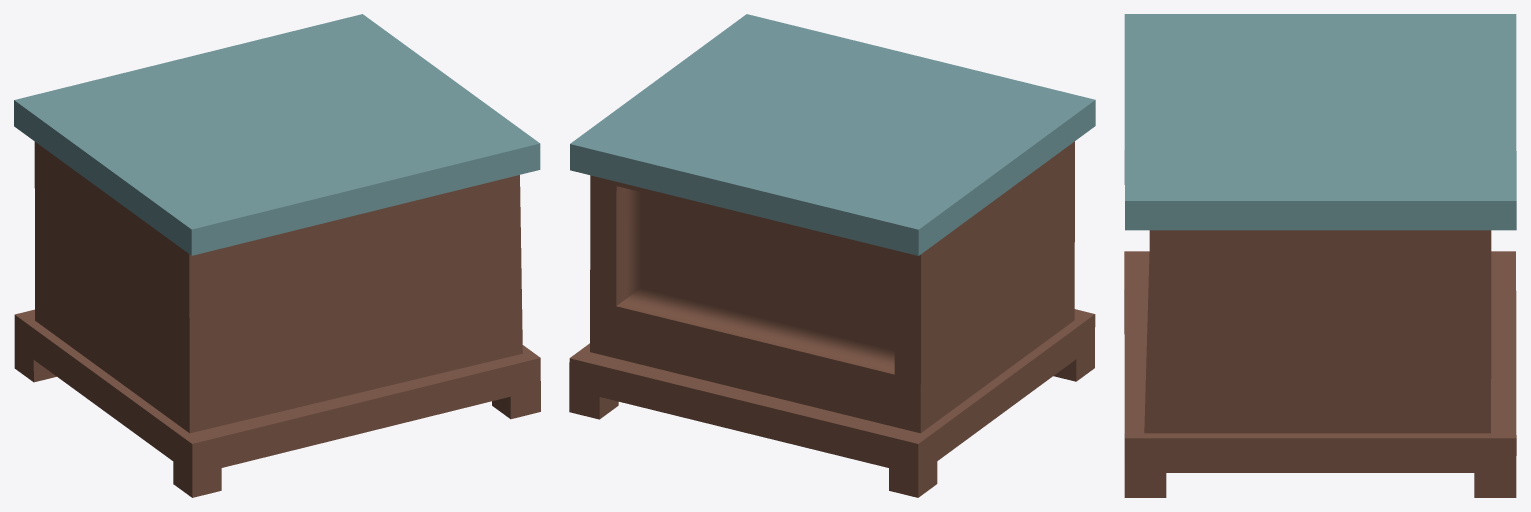
Rendered from A3D_Comptoir_d_echanges_.fbx.
The picture shows the model from 3 angles, left to right: view 1: azimuth 30°, elevation 25°; view 2: azimuth 150°, elevation 25°; view 3: azimuth 270°, elevation 25°; orthographic projection. The views are drawn at different scales.
Visible parts, largest first — view 1: pCube77; view 2: pCube77; view 3: pCube77.
Boxes of the visible parts, x1=… form: pCube77: x1=14, y1=14, x2=540, y2=497; pCube77: x1=569, y1=14, x2=1095, y2=497; pCube77: x1=1124, y1=14, x2=1516, y2=497.
Bounding box in the file's own units: 25.19 × 18.56 × 22.15.
